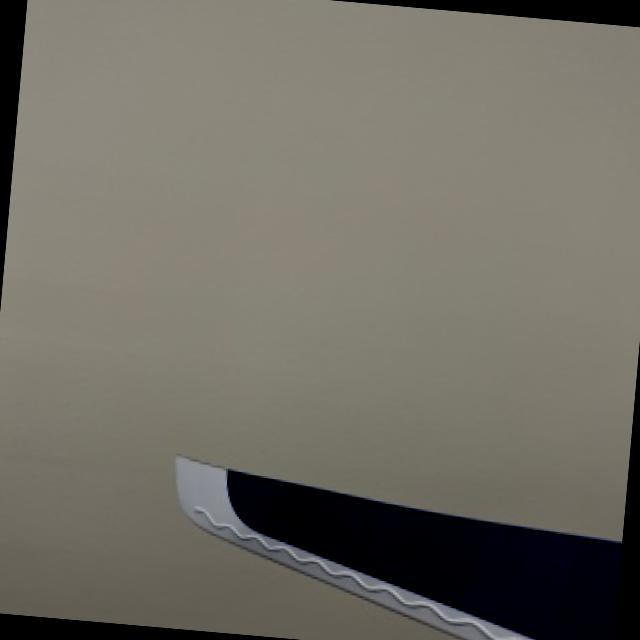healthy: (180, 455, 622, 640)
